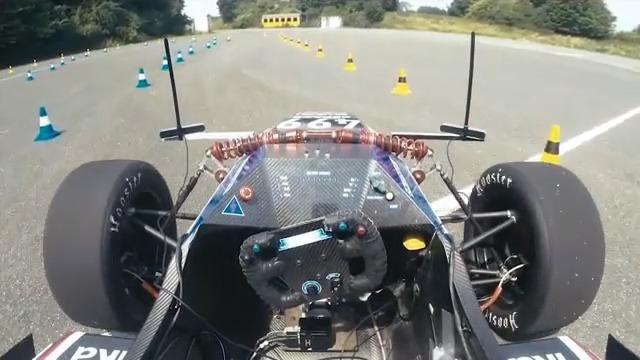blue_cone: (29, 105, 60, 141), (133, 68, 150, 90), (174, 48, 184, 64), (160, 55, 170, 70), (25, 68, 34, 82), (187, 43, 194, 55), (48, 62, 56, 72), (58, 58, 65, 68), (205, 42, 211, 51), (71, 54, 77, 62), (212, 39, 217, 47)
yellow_cone: (519, 120, 573, 199), (390, 66, 411, 96), (342, 52, 356, 73), (315, 45, 324, 60), (295, 39, 303, 51), (30, 58, 38, 68), (303, 41, 310, 52), (289, 37, 296, 48), (7, 65, 14, 76)
